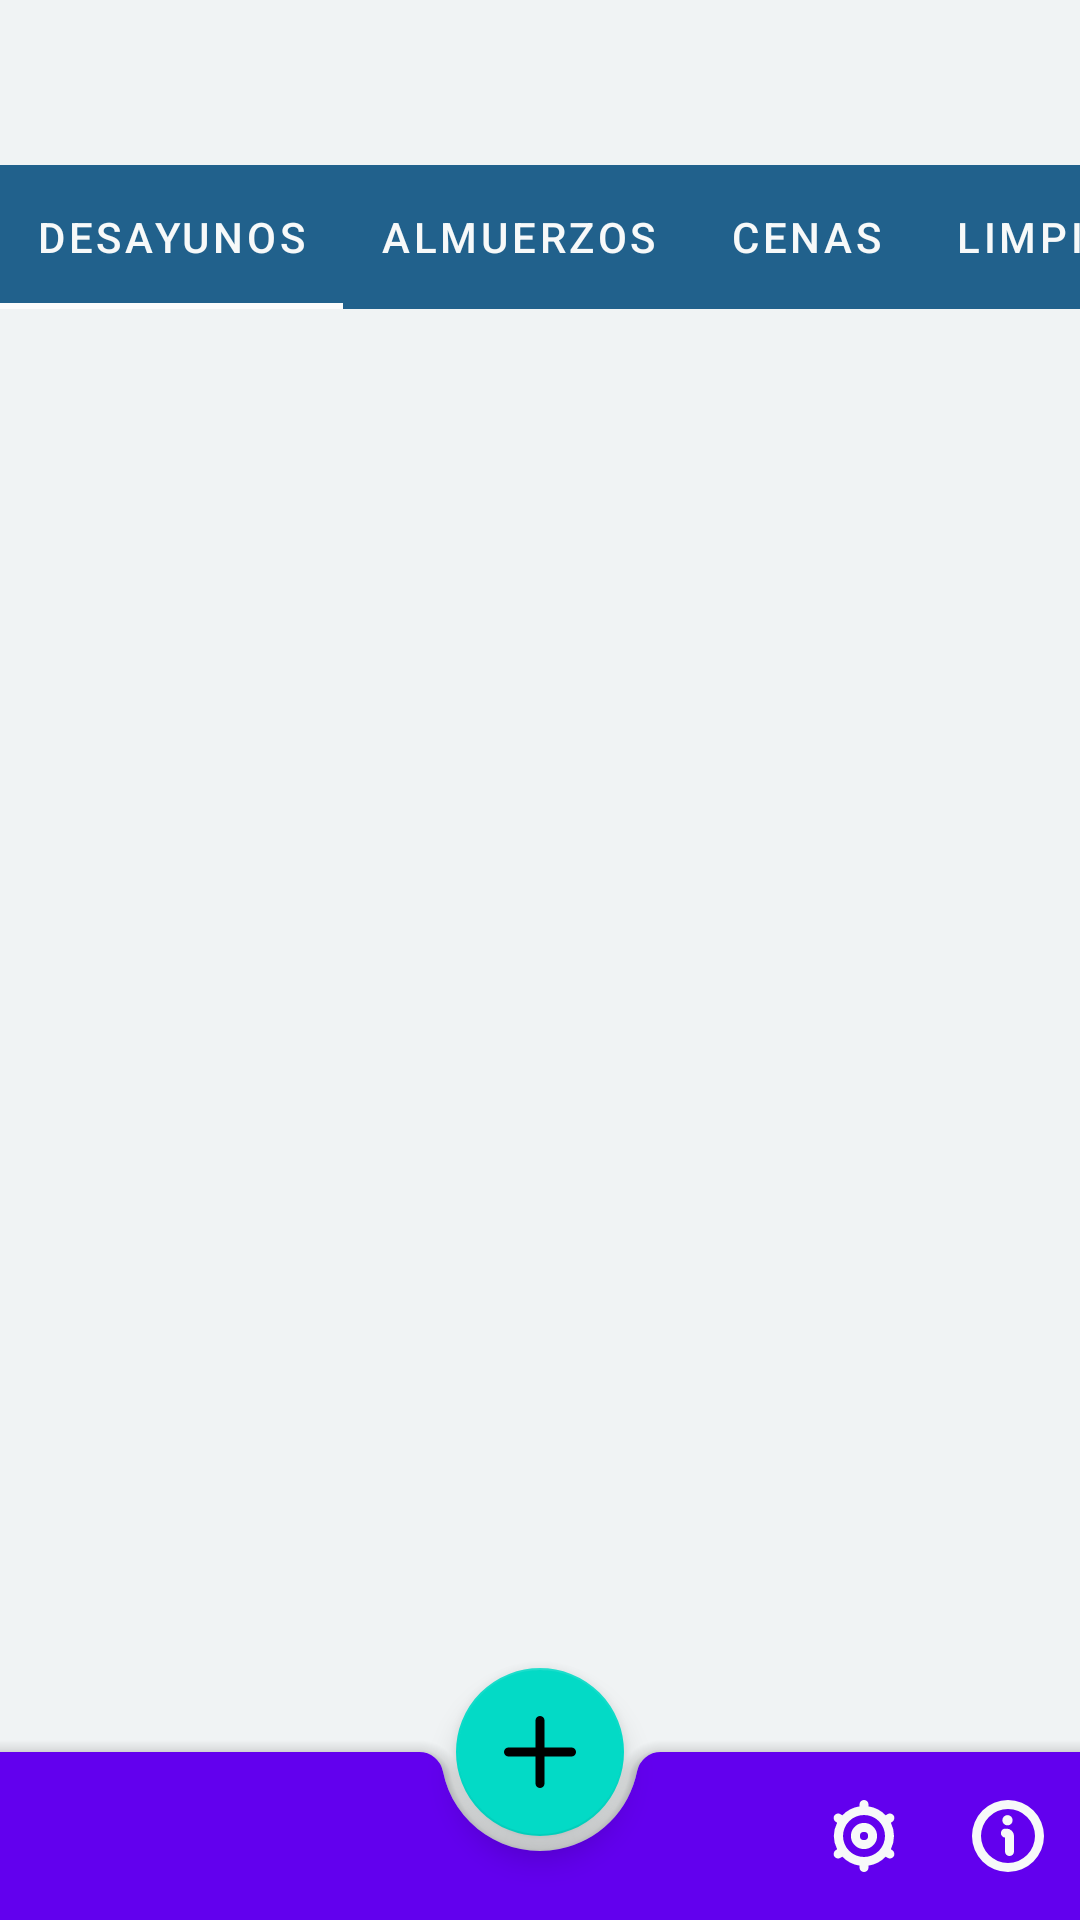

Where to tap for icons on this 1080 x 1920 app screen, as [x,y]:
plus: [540,1752]
